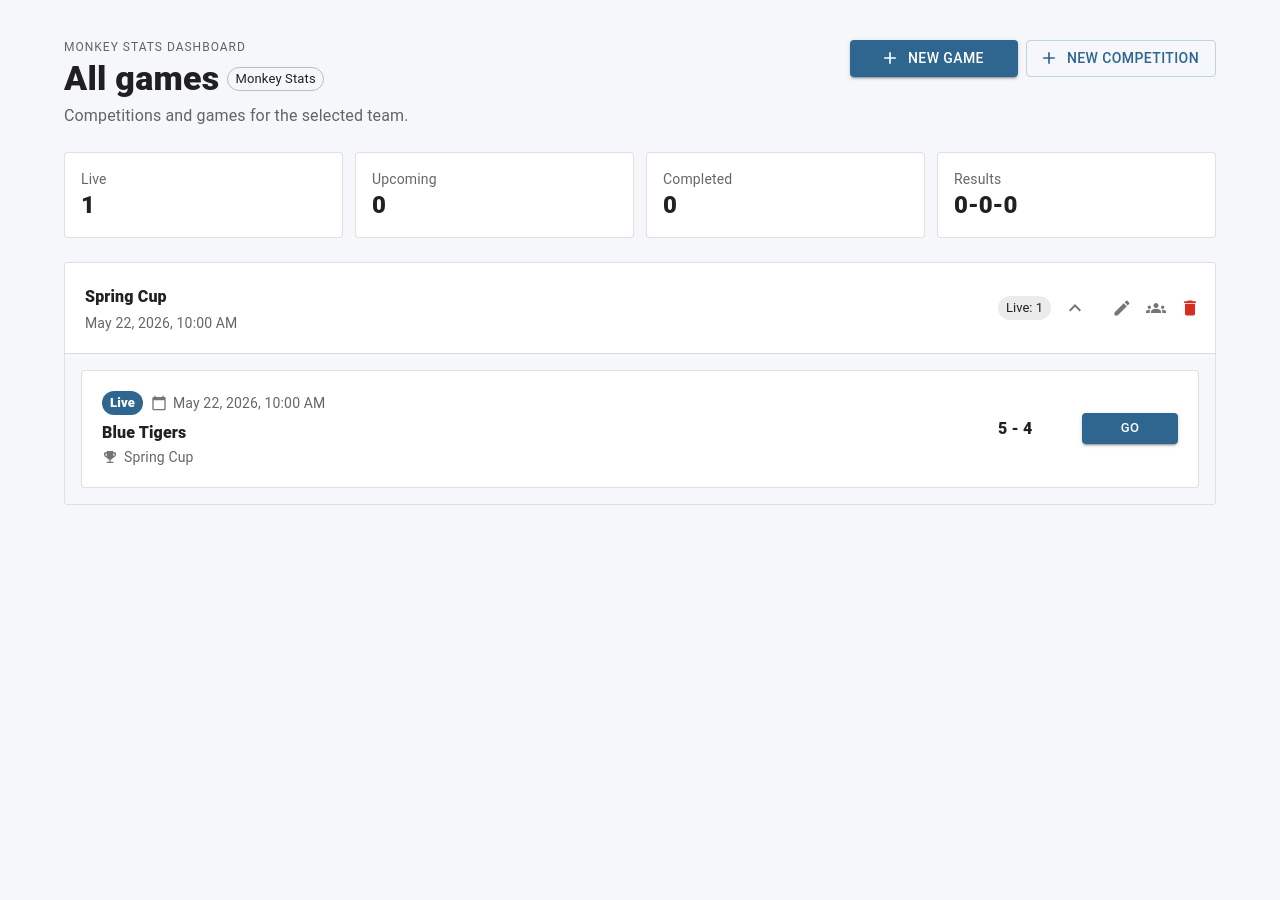
AllGamesPage › deletes a competition and its games from the selected-team dashboard
Expected: the heading "Spring Cup" is shown, 85,287 -> 167,306
What coordinates should you click on to do the following:
click the button named "Delete Spring Cup competition"
I would click on:
 (1190, 308)
Its box is 1175,293 -> 1205,323.
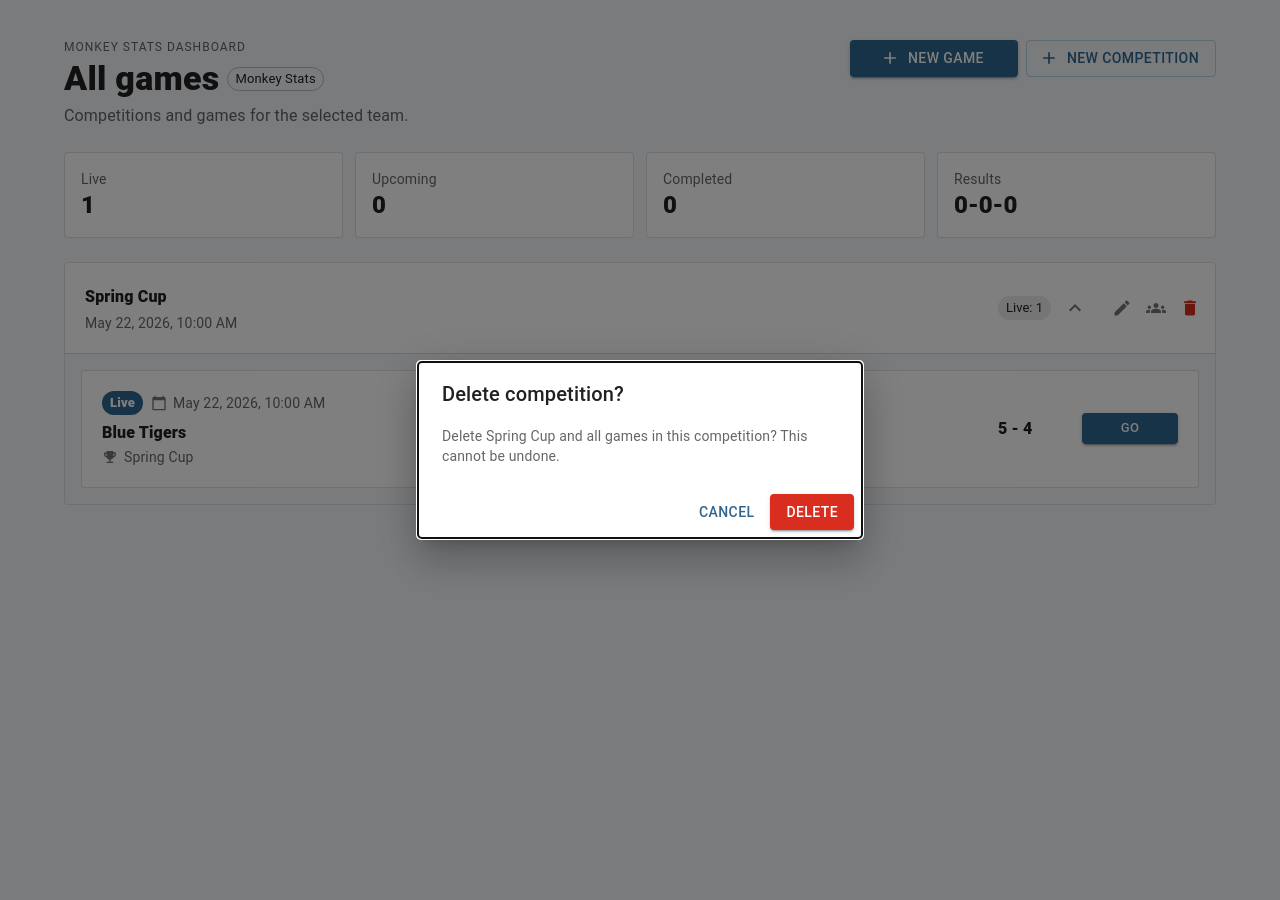
Expected: the heading "Delete competition?" is shown, 442,382 -> 624,406
What coordinates should you click on to do the following:
click the button "Delete"
I would click on:
 (812, 512)
Its box is 770,494 -> 854,530.
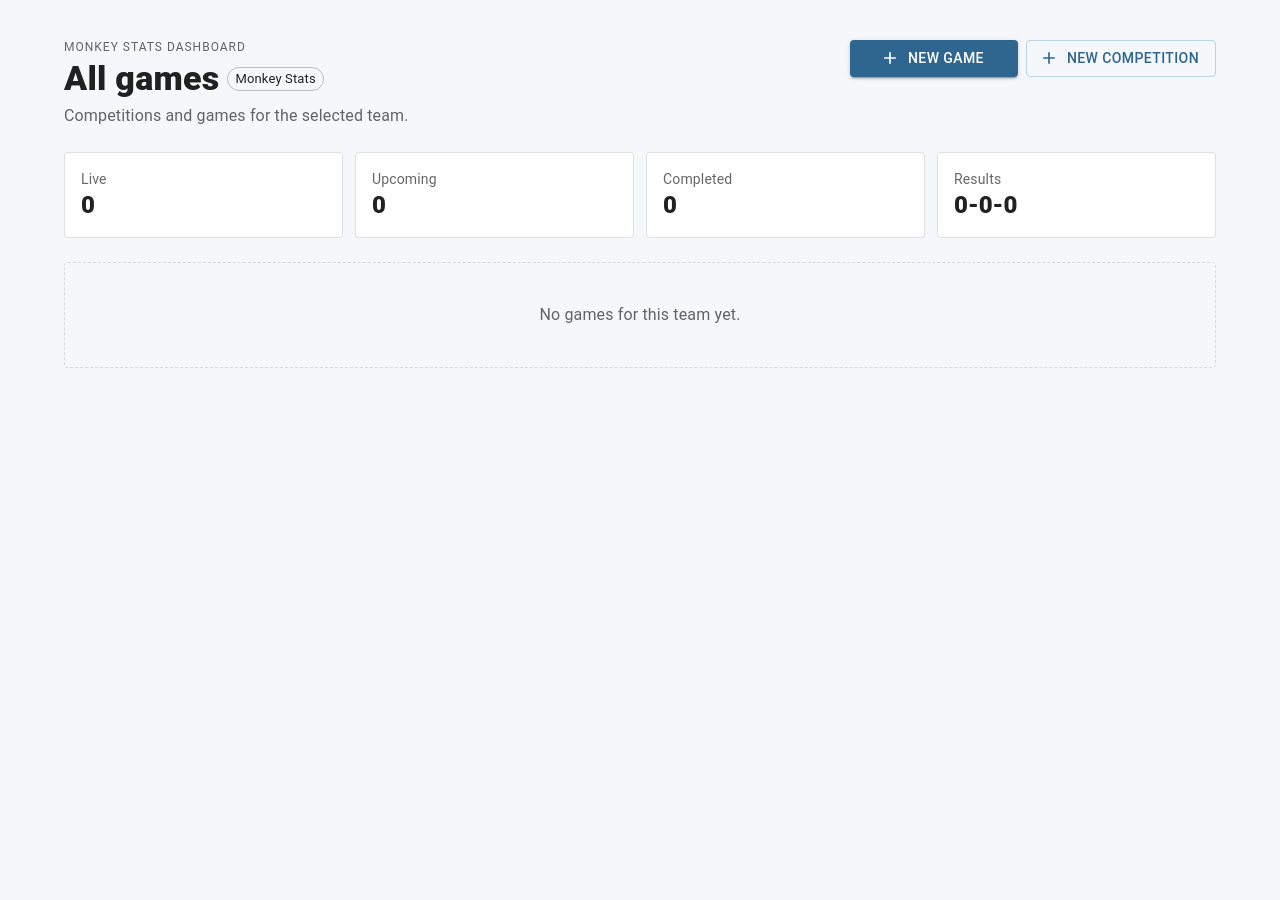
Expected: the button "Spring Cup" is gone
